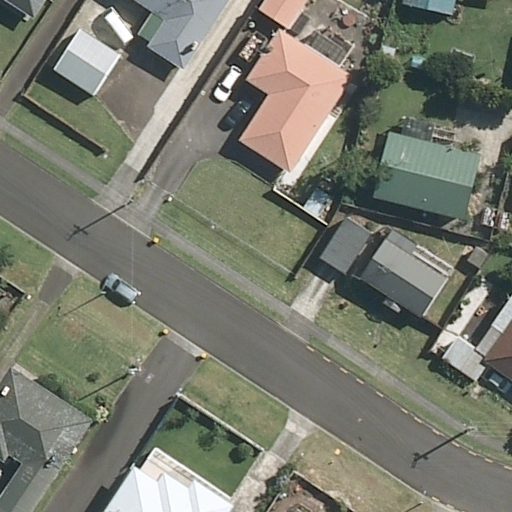DT: (457, 417, 483, 442), (119, 187, 142, 213), (119, 359, 146, 381)
